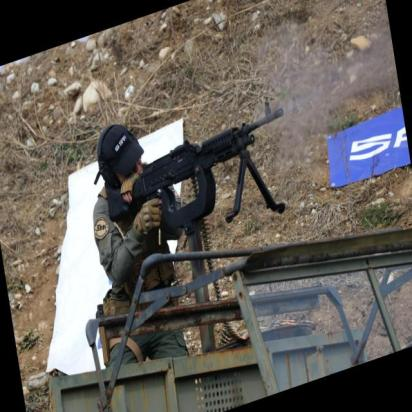Gun: (105, 97, 296, 244)
